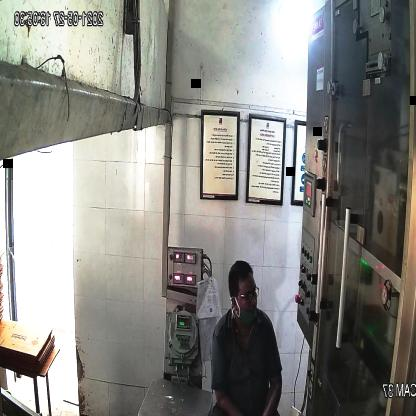goggles: (233, 282, 262, 306)
